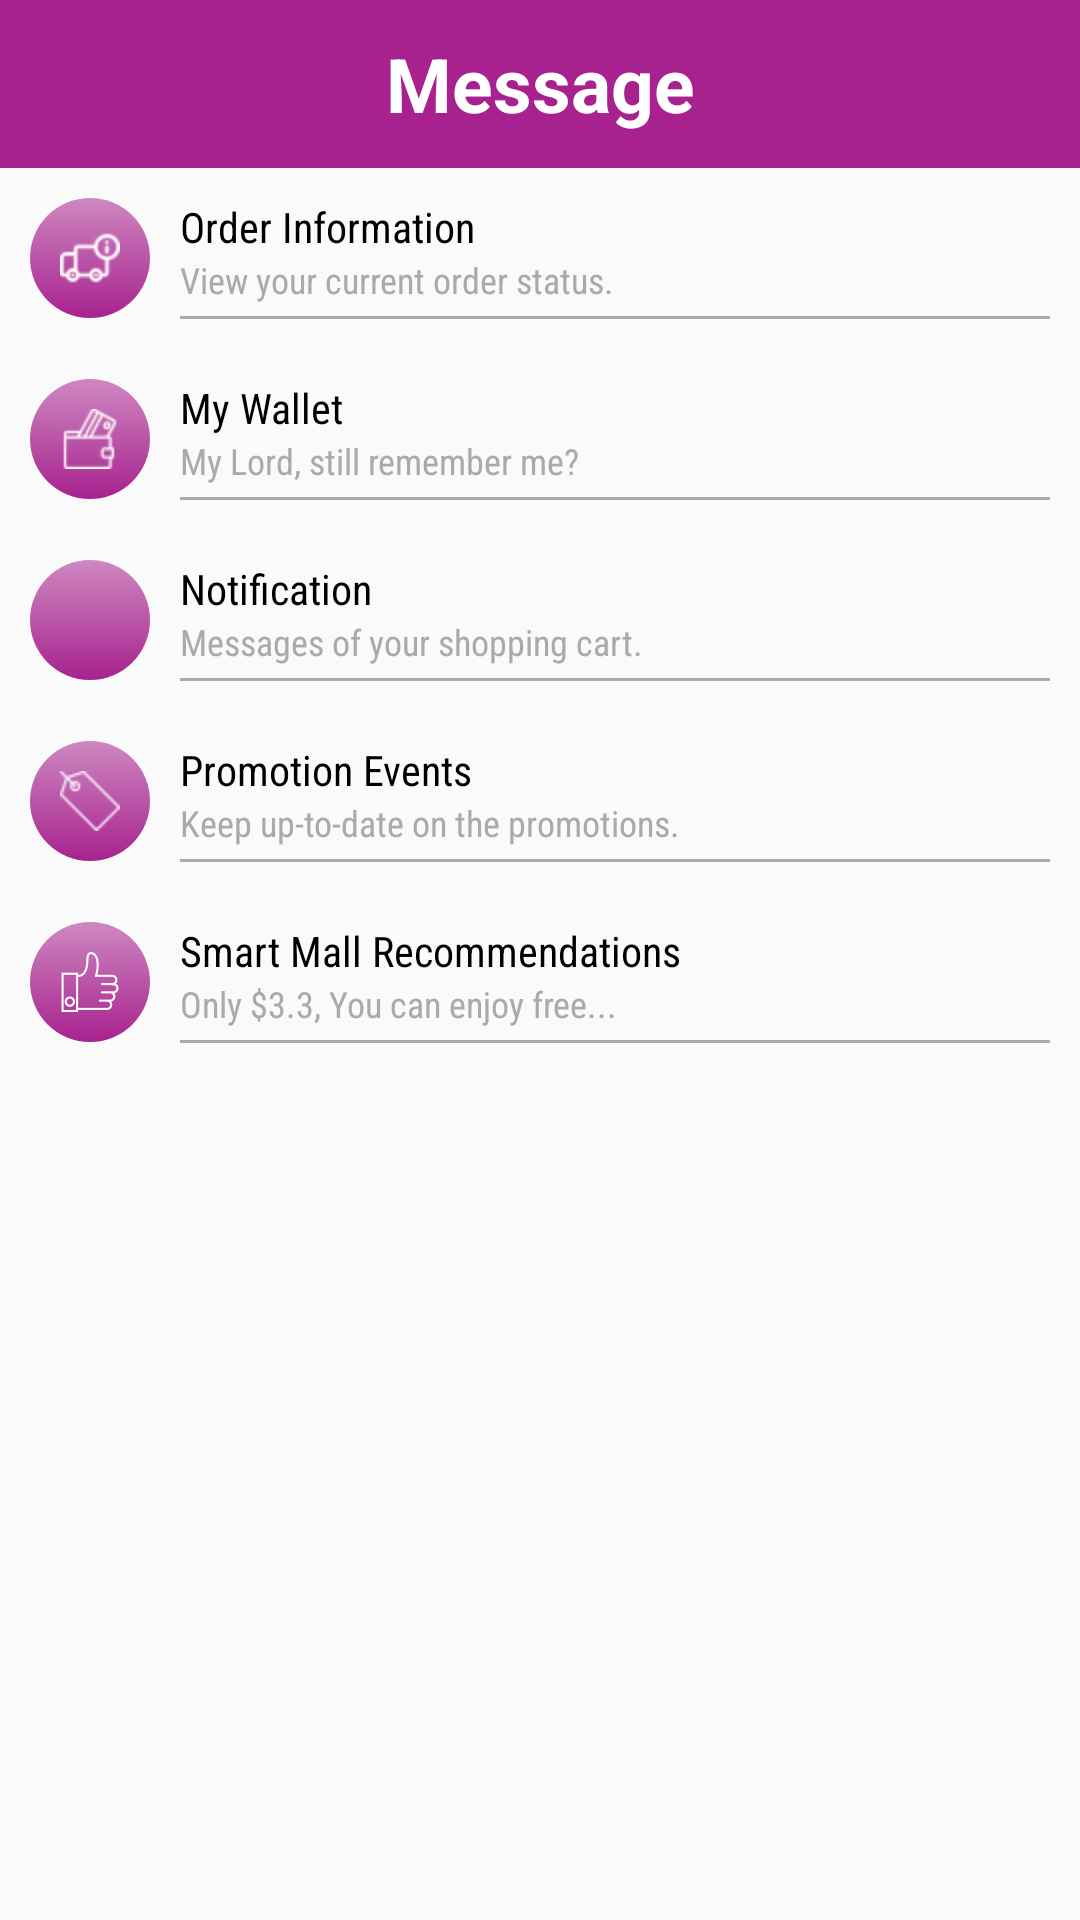

Named icons in this screenshot (1080w x 1920h) and their centers, [x,y]:
like: [90,982]
